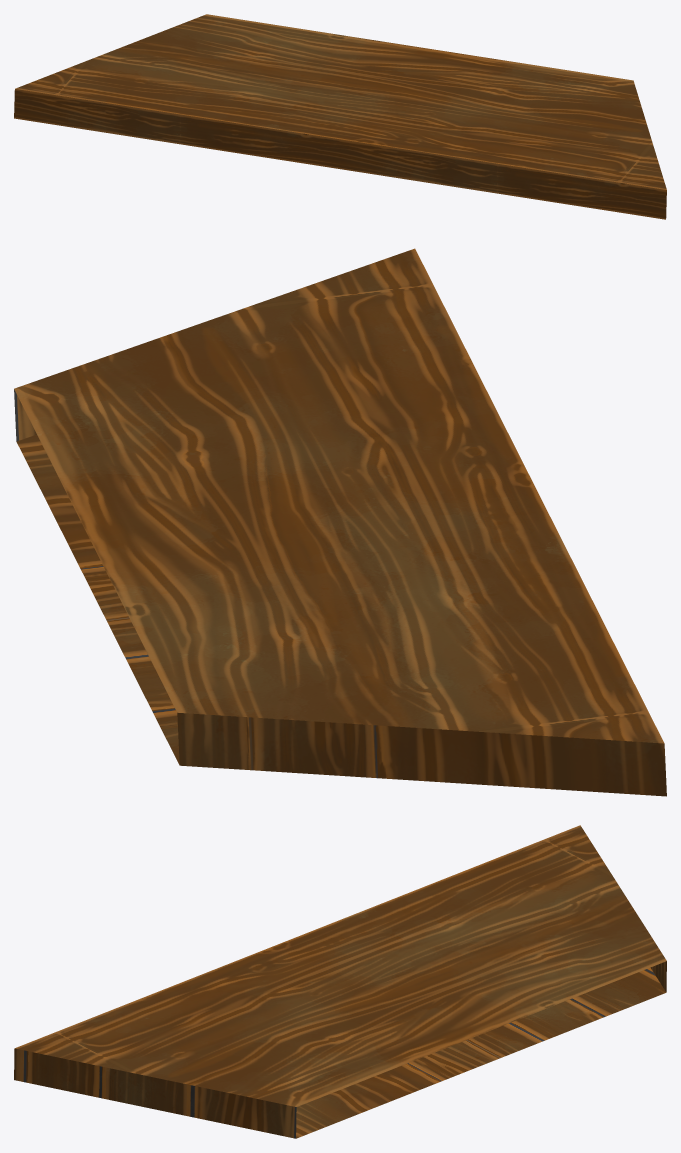
The picture shows the model from 3 angles, top to bottom: view 1: azimuth 30°, elevation 25°; view 2: azimuth 150°, elevation 25°; view 3: azimuth 270°, elevation 25°; orthographic projection. The views are drawn at different scales.
Visible parts, largest first — view 1: Cube.720; view 2: Cube.720; view 3: Cube.720.
Boxes of the visible parts, x1,y1,x2,y2 form: Cube.720: [14, 14, 666, 219]; Cube.720: [14, 248, 666, 796]; Cube.720: [14, 825, 666, 1138].
Size of the model in its own units: 908 by 81.63 by 949.
Materials: 1 (1 with a texture image).
